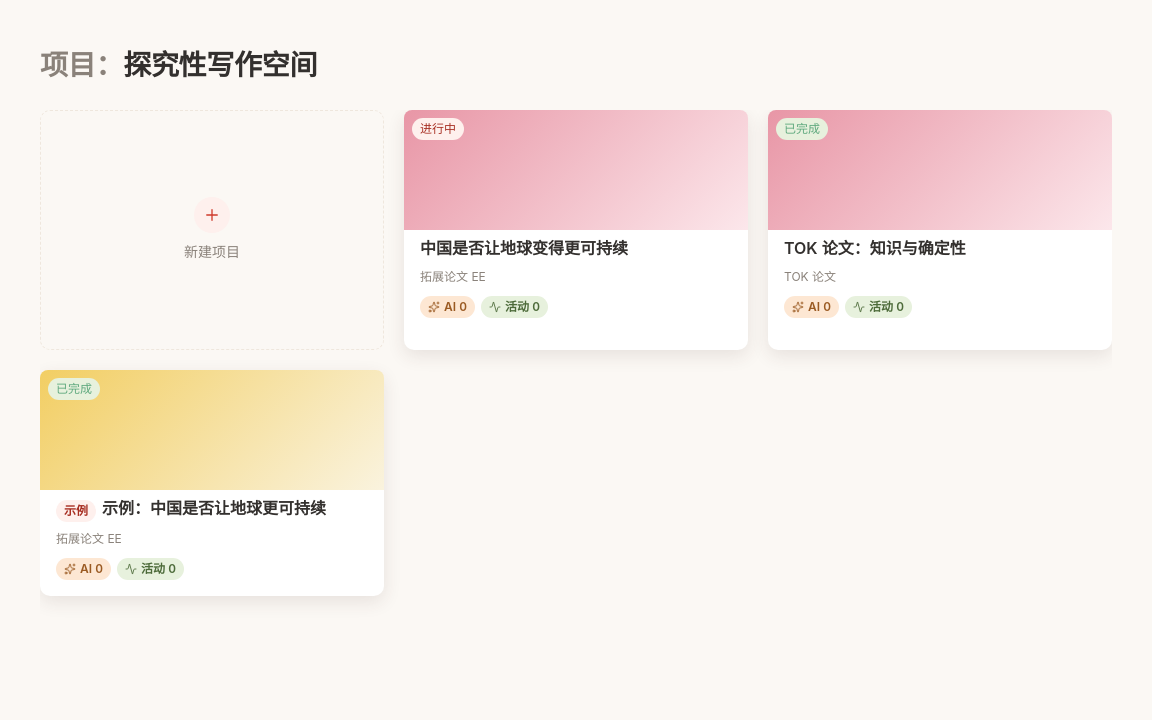
Test case: Directory › shared demo project (Task 9) › 不用了 closes the guard modal and never opens the studio
The image size is (1152, 720).
Click the text "示例：中国是否让地球更可持续" at (214, 508), box [102, 498, 326, 518]
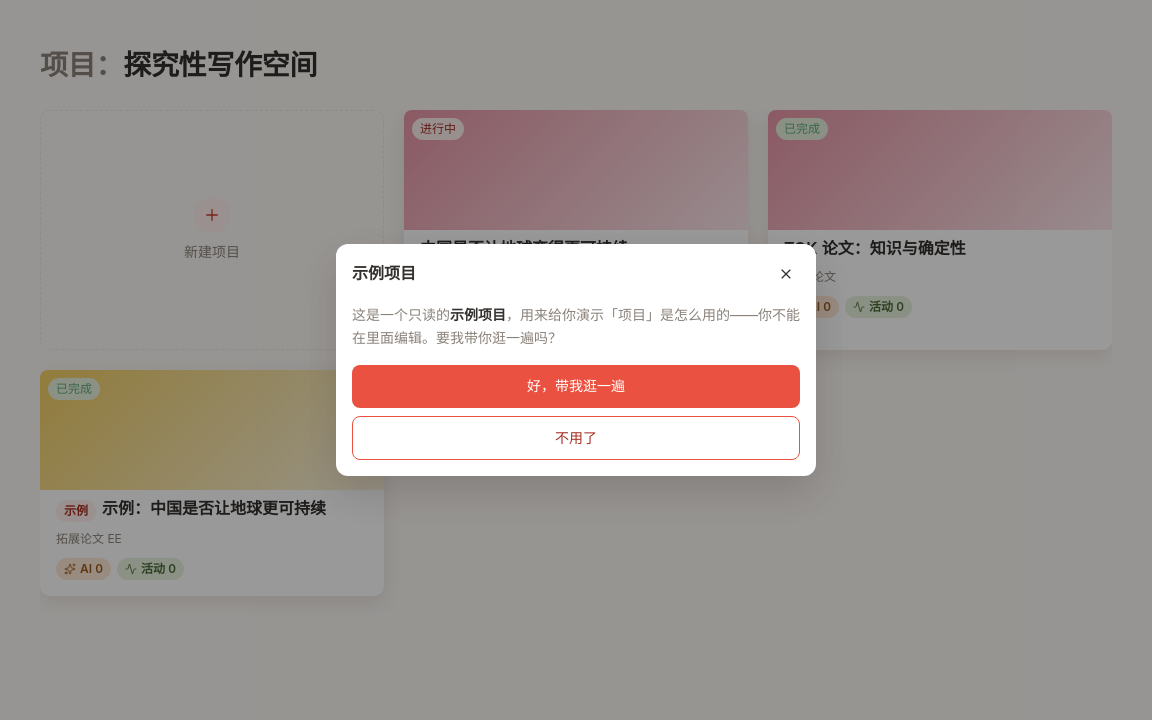
Click the button "不用了" at (576, 438), box [352, 416, 800, 460]
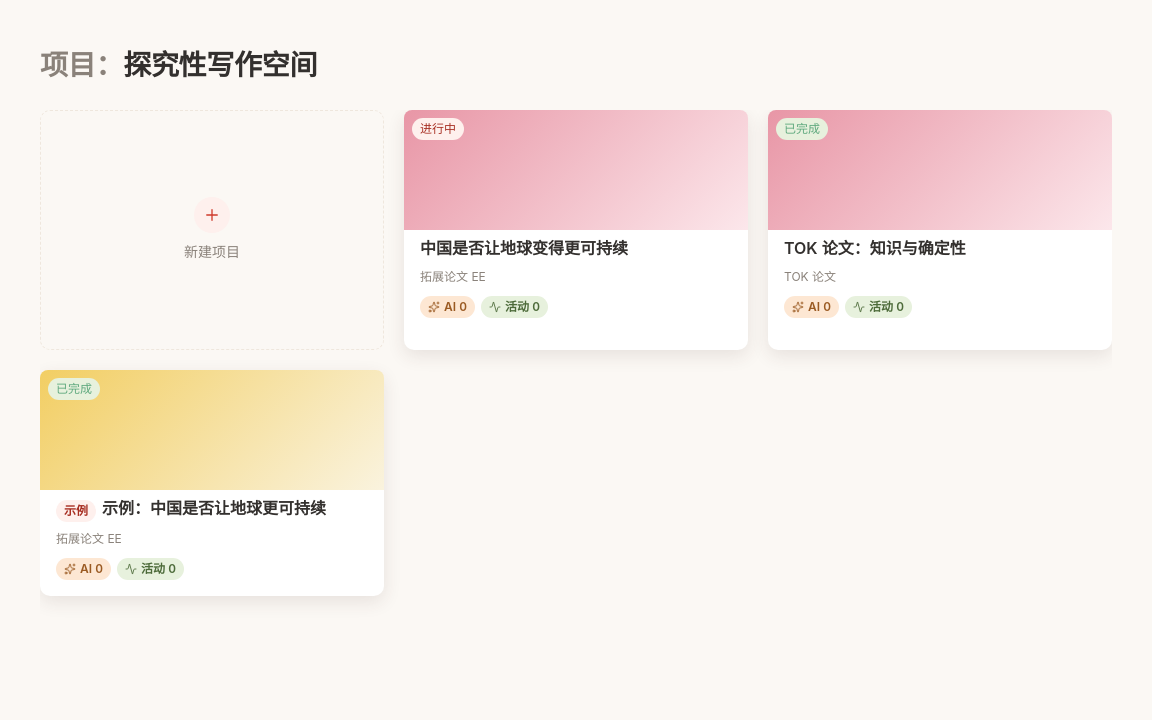
Expected: the heading "示例项目" is gone
